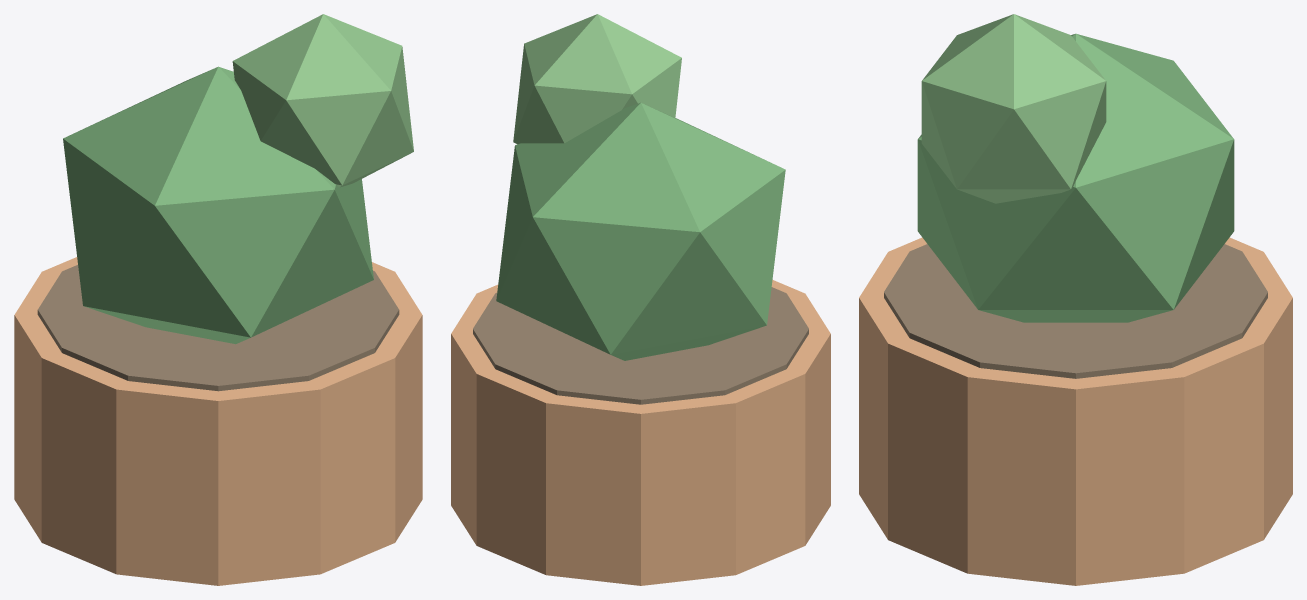
File: planter_round.glb
The picture shows the model from 3 angles, left to right: view 1: azimuth 30°, elevation 25°; view 2: azimuth 150°, elevation 25°; view 3: azimuth 270°, elevation 25°; orthographic projection. The views are drawn at different scales.
Parts seen in each view (by area): view 1: planter_round_body; view 2: planter_round_body; view 3: planter_round_body.
Boxes of the visible parts, x1,y1,x2,y2 form: planter_round_body: (14, 14, 422, 585); planter_round_body: (451, 14, 830, 585); planter_round_body: (859, 14, 1292, 585).
Bounding box in the file's own units: 0.14 × 0.185 × 0.14.
